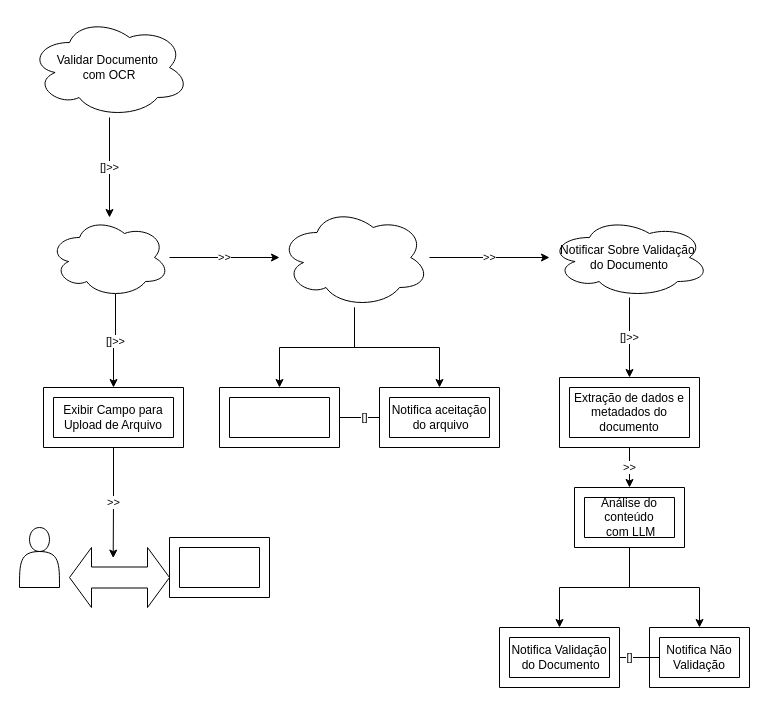
Some shapes in this 767 by 705 pixel diagram are drawn without their labels. The shapes that lost their labels are listed below. From the top down, each one's centre as x and y in pixels, then its label:
At (109,257): "Fazer Upload De Documento".
At (354,257): "Enviar Notificação de Recebimento do Arquivo".
At (279,417): "Notifica Rejeição do arquivo".
At (119,577): "Selecionar Arquivo e Enviar".
